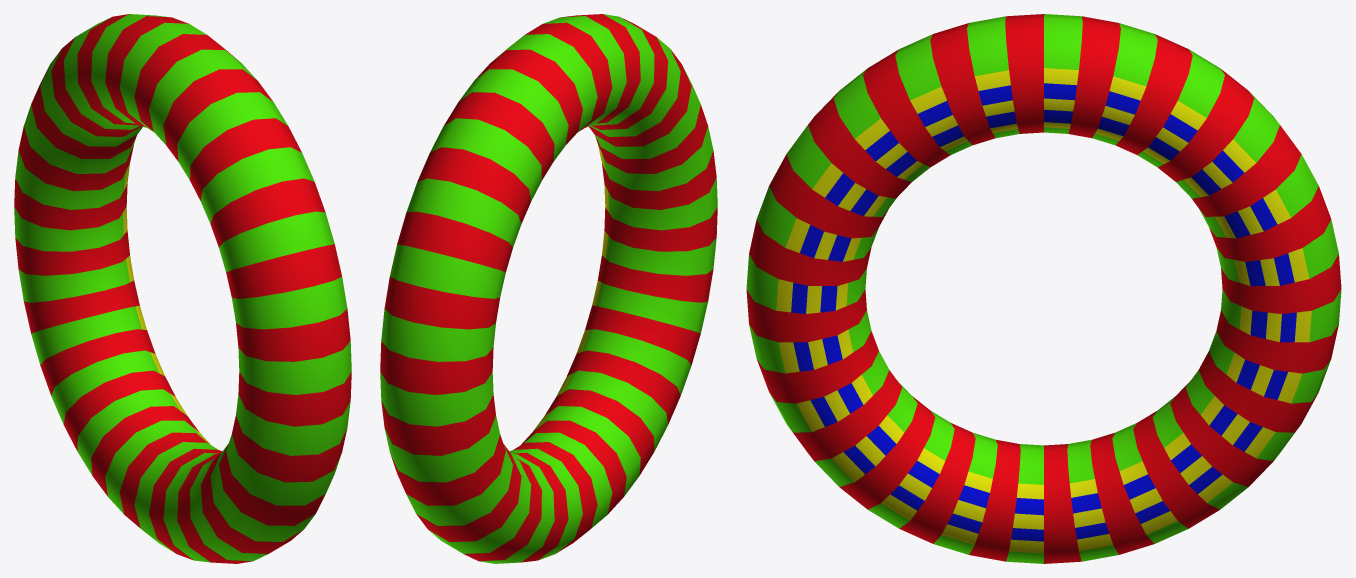
The model's file is Round.fbx.
3 renders of one model, left to right at view 1: azimuth 30°, elevation 25°; view 2: azimuth 150°, elevation 25°; view 3: azimuth 270°, elevation 25°, orthographic. The views are drawn at different scales.
Parts seen in each view (by area): view 1: Torus; view 2: Torus; view 3: Torus.
Boxes of the visible parts, x1,y1,x2,y2 form: Torus: (14,14,351,563); Torus: (380,14,717,563); Torus: (746,14,1341,563).
Bounding box in the file's own units: 50 × 250 × 250.
